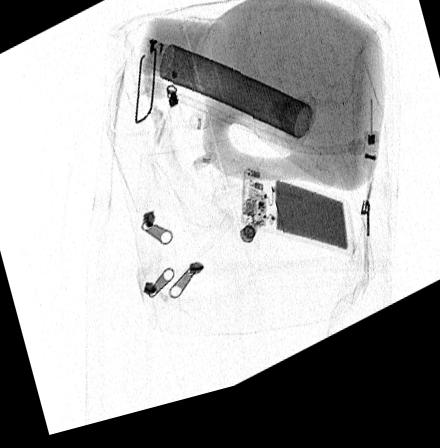Powerbank: (241, 178, 353, 273)
